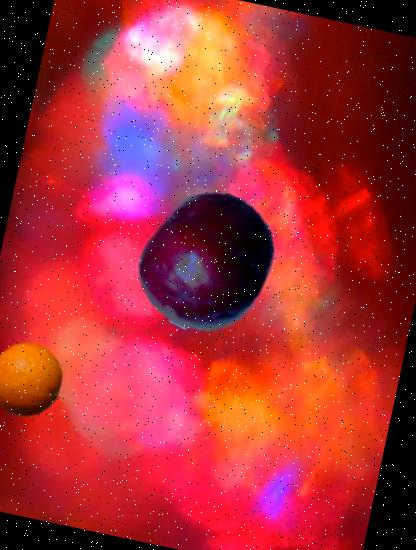Orange: (0, 336, 70, 425)
Plum: (122, 177, 290, 345)
